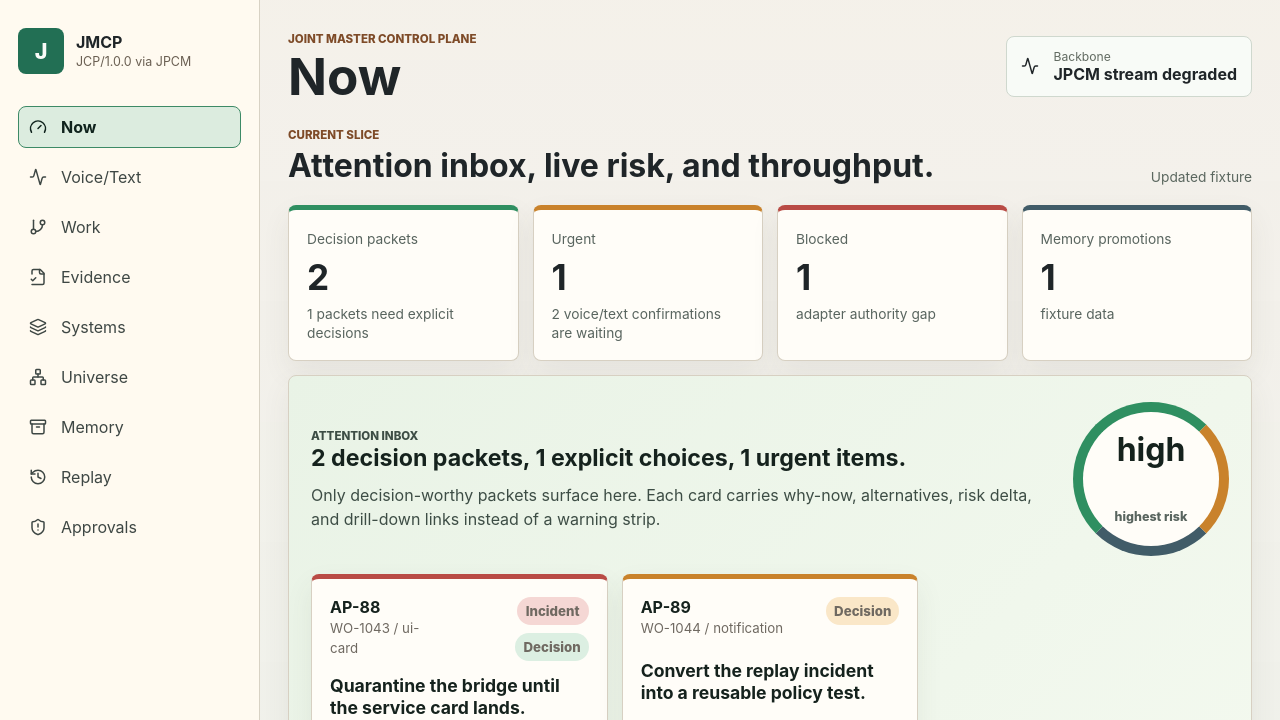
Scenario: JMCP cockpit › opens the voice/text slice with transcript and confirmation details
The width and height of the screenshot is (1280, 720).
Click the button "Voice/Text": (130, 177) 18,156 -> 241,198
(page scrolled)
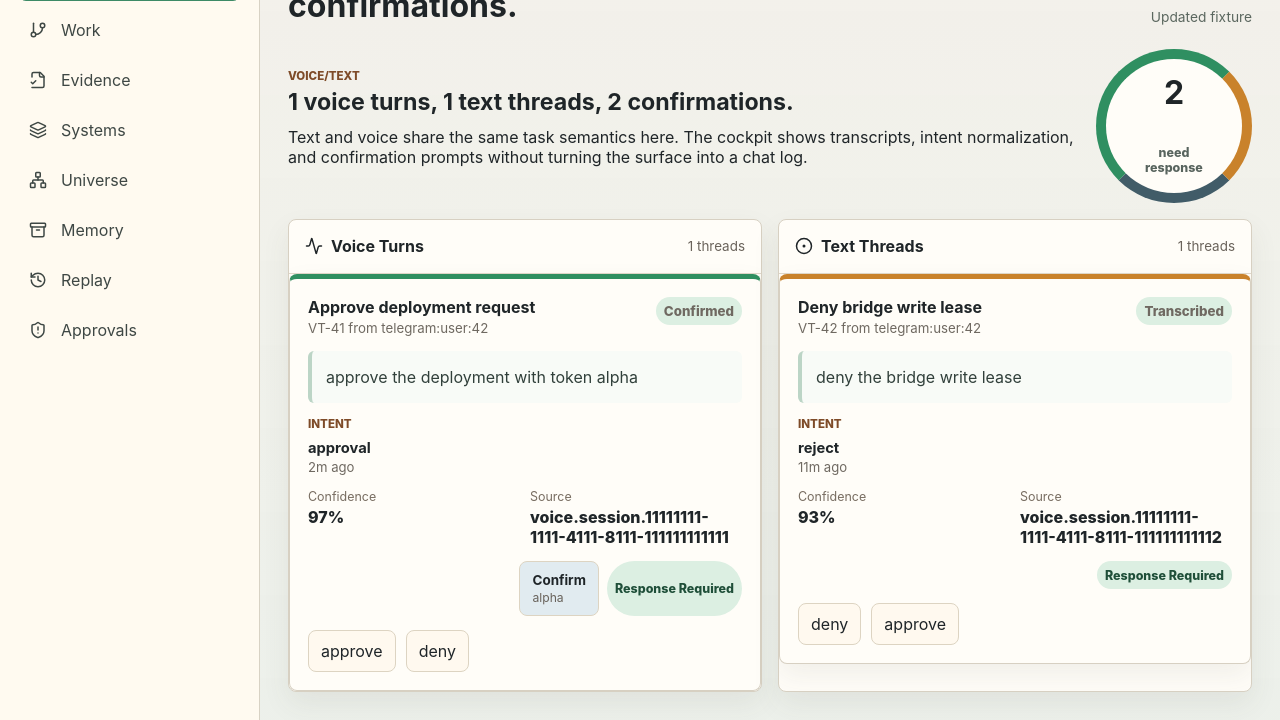
Expected: the text "Approve deployment request" is shown, 308,297 -> 535,317
Expected: the text "approve the deployment with token alpha" is shown, 308,351 -> 742,403
Expected: the text "response required" below "2m ago" is shown, 615,581 -> 734,596
